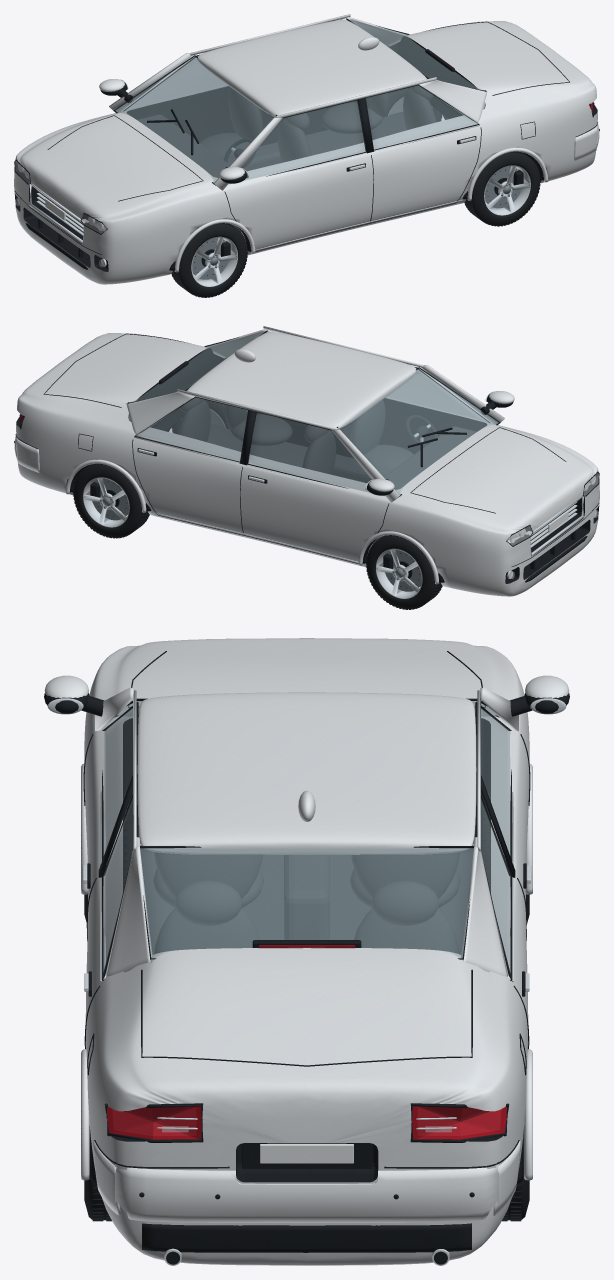
File: Four Door Sedan.glb
3 renders of one model, top to bottom at view 1: azimuth 30°, elevation 25°; view 2: azimuth 150°, elevation 25°; view 3: azimuth 270°, elevation 25°, orthographic. The views are drawn at different scales.
Parts seen in each view (by area): view 1: Watertight 14-station body shell, Crowned roof pressing, Raked laminated windshield, Front side door glass, Rear side door glass, 107 reused Sculpted_tyre, 107 reused Sculpted_tyre.002, Sloping rear glass, Front side door glass.001, Instrument panel, Cabin carpet, Surface integrated sedan rear roof pillar (+21 smaller); view 2: Watertight 14-station body shell, Crowned roof pressing, Raked laminated windshield, Front side door glass.001, Rear side door glass.001, 107 reused Sculpted_tyre.001, 107 reused Sculpted_tyre.003, Sloping rear glass, Front side door glass, Instrument panel, Cabin carpet, Surface integrated sedan rear roof pillar.001 (+21 smaller); view 3: Watertight 14-station body shell, Crowned roof pressing, Sloping rear glass, Formed painted rear bumper cover, Sculpted rear lower bumper insert, Cabin carpet, Center console, Contoured seat back, Contoured seat back.001, Surface integrated sedan rear roof pillar.001, Surface integrated sedan rear roof pillar, Contoured seat back.003 (+21 smaller).
Boxes of the visible parts, <box> form: Watertight 14-station body shell: <box>14,21,597,284</box>; Crowned roof pressing: <box>197,20,426,116</box>; Raked laminated windshield: <box>115,56,275,182</box>; Front side door glass: <box>228,100,365,184</box>; Rear side door glass: <box>366,85,477,149</box>; 107 reused Sculpted_tyre: <box>172,223,247,297</box>; 107 reused Sculpted_tyre.002: <box>465,152,539,225</box>; Sloping rear glass: <box>350,20,481,89</box>; Front side door glass.001: <box>127,58,227,109</box>; Instrument panel: <box>137,114,229,177</box>; Cabin carpet: <box>223,112,406,240</box>; Surface integrated sedan rear roof pillar: <box>419,80,487,122</box>; Watertight 14-station body shell: <box>16,333,599,596</box>; Crowned roof pressing: <box>187,332,416,428</box>; Raked laminated windshield: <box>338,368,498,494</box>; Front side door glass.001: <box>248,412,385,496</box>; Rear side door glass.001: <box>136,397,247,461</box>; 107 reused Sculpted_tyre.001: <box>366,535,441,609</box>; 107 reused Sculpted_tyre.003: <box>73,464,148,537</box>; Sloping rear glass: <box>132,332,263,401</box>; Front side door glass: <box>386,370,486,421</box>; Instrument panel: <box>384,426,476,489</box>; Cabin carpet: <box>207,424,390,552</box>; Surface integrated sedan rear roof pillar.001: <box>126,392,194,434</box>; Watertight 14-station body shell: <box>84,638,529,1265</box>; Crowned roof pressing: <box>137,692,476,854</box>; Sloping rear glass: <box>140,848,473,958</box>; Formed painted rear bumper cover: <box>115,1164,498,1222</box>; Sculpted rear lower bumper insert: <box>142,1223,471,1252</box>; Cabin carpet: <box>140,845,473,954</box>; Center console: <box>284,855,329,939</box>; Contoured seat back: <box>154,852,262,898</box>; Contoured seat back.001: <box>351,852,459,898</box>; Surface integrated sedan rear roof pillar.001: <box>461,837,507,976</box>; Surface integrated sedan rear roof pillar: <box>106,837,152,976</box>; Contoured seat back.003: <box>354,908,459,954</box>.
Bounding box in the file's own units: 4.84 × 1.55 × 2.18.
Materials: 10 (10 with a texture image).
